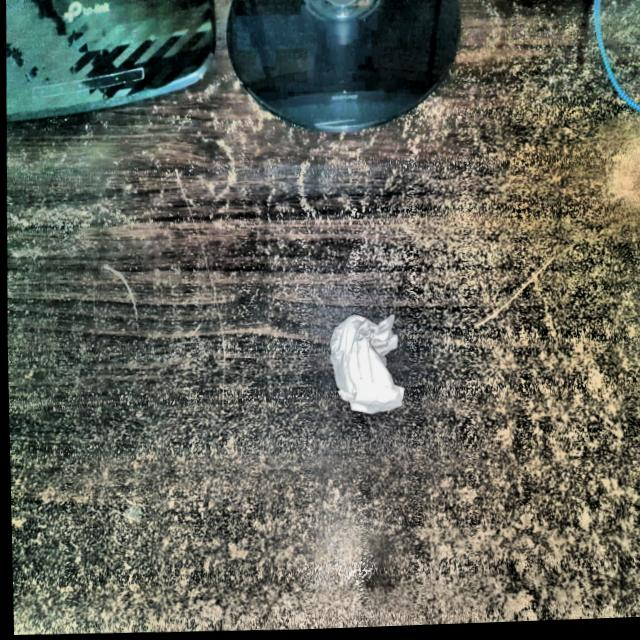Paper: (318, 303, 417, 422)
